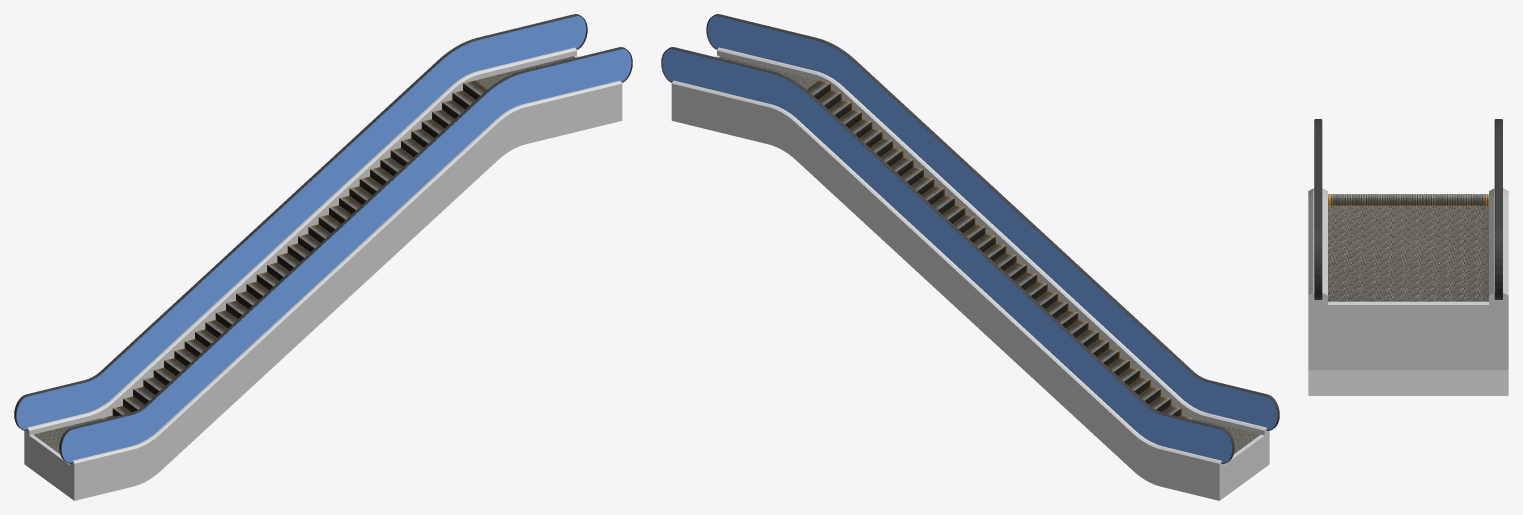
The model's file is futi.glb.
3 renders of one model, left to right at view 1: azimuth 30°, elevation 25°; view 2: azimuth 150°, elevation 25°; view 3: azimuth 270°, elevation 25°, orthographic. The views are drawn at different scales.
Parts seen in each view (by area): view 1: 1002; view 2: 1002; view 3: 1002.
Part boxes in pixels (x1,y1,x2,y2): 1002: [14, 14, 632, 500]; 1002: [661, 14, 1279, 500]; 1002: [1308, 119, 1508, 395].
Bounding box in the file's own units: 19.39 × 10.29 × 2.94.
5 materials, 5 textured.
